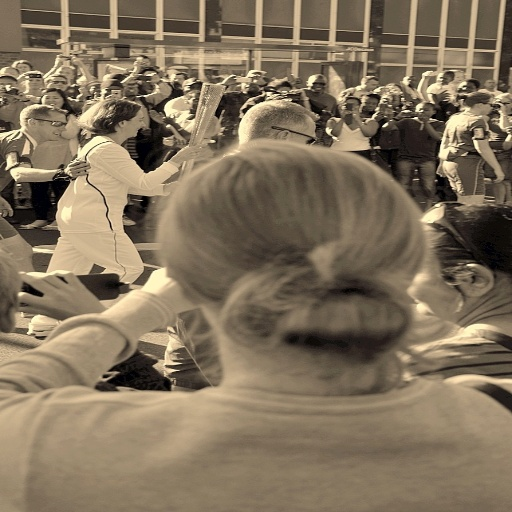hand: (14, 260, 111, 323), (141, 266, 200, 313), (61, 158, 93, 179), (172, 142, 206, 160), (245, 72, 265, 87), (0, 195, 13, 218), (220, 73, 239, 87), (490, 168, 504, 185), (491, 102, 508, 115), (147, 109, 161, 124), (124, 70, 143, 81), (165, 181, 178, 197), (436, 87, 452, 100), (369, 110, 386, 122), (158, 114, 176, 125), (51, 53, 66, 66), (434, 162, 445, 179), (284, 89, 306, 97), (414, 112, 428, 124), (145, 72, 161, 82), (419, 70, 439, 78), (70, 53, 81, 67), (397, 109, 413, 118), (130, 59, 141, 71), (341, 107, 350, 119), (351, 111, 361, 121)
